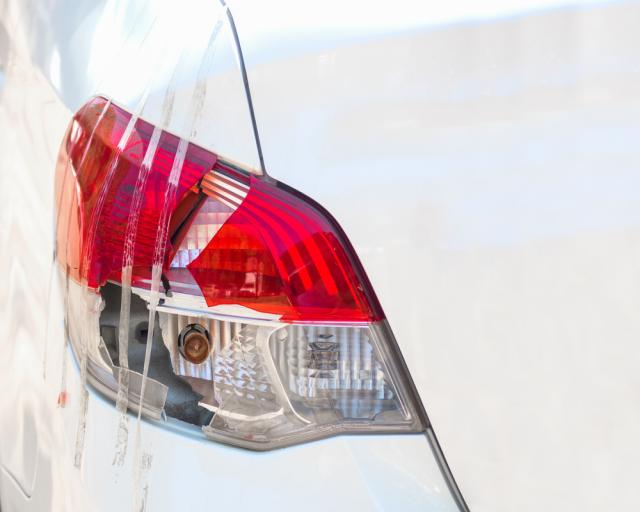lamp broken: (55, 95, 427, 452)
